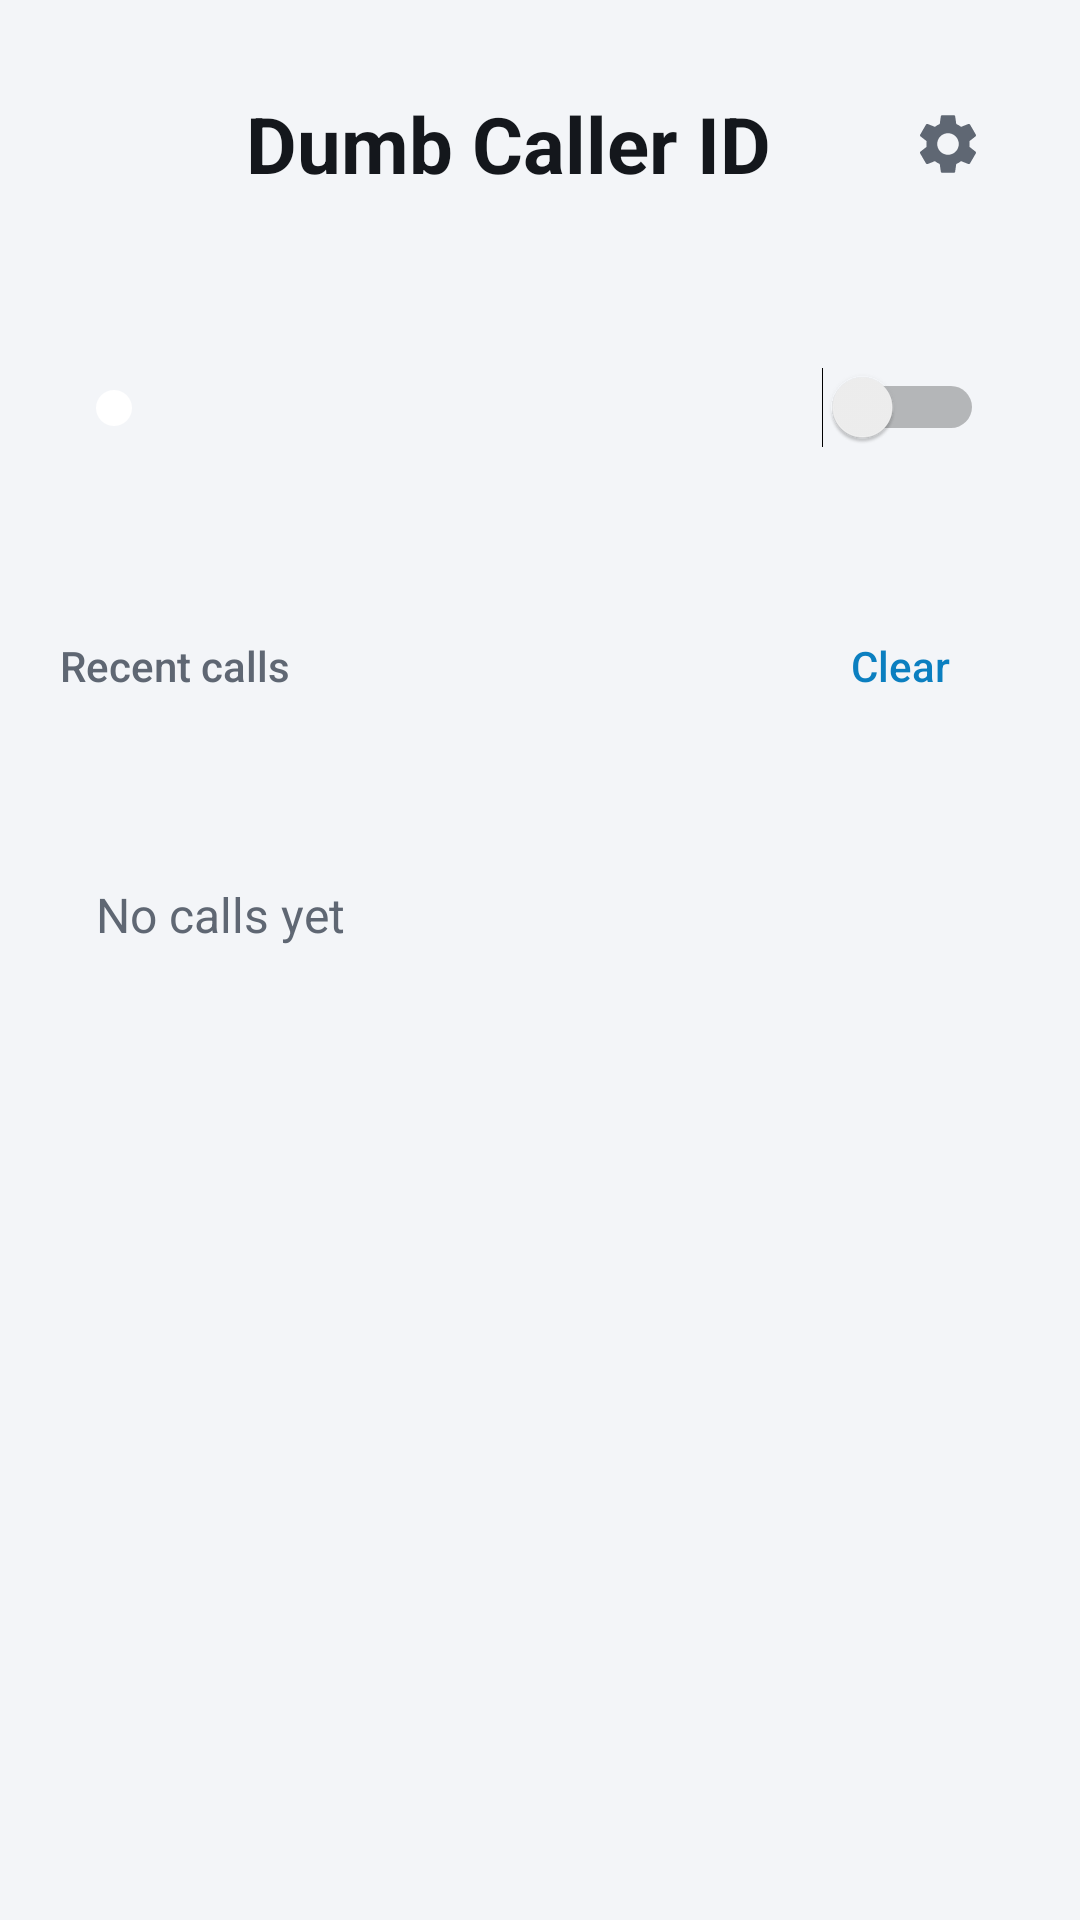

Icons on this 1080px×1920px Android screen, each with its box as (x1, y1, x2, y2):
Settings: (920, 115, 976, 173)
